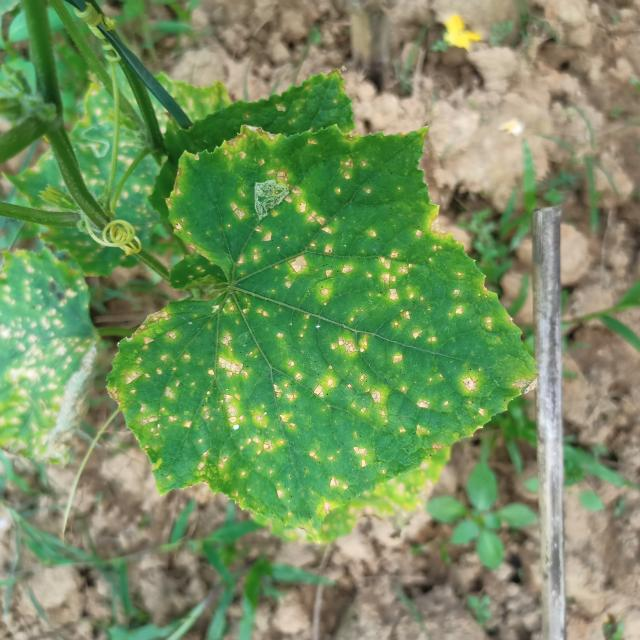disease_cucumber: (127, 147, 506, 518)
